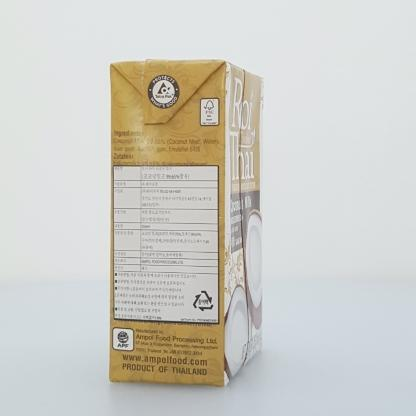-------------: (109, 58, 263, 387)
